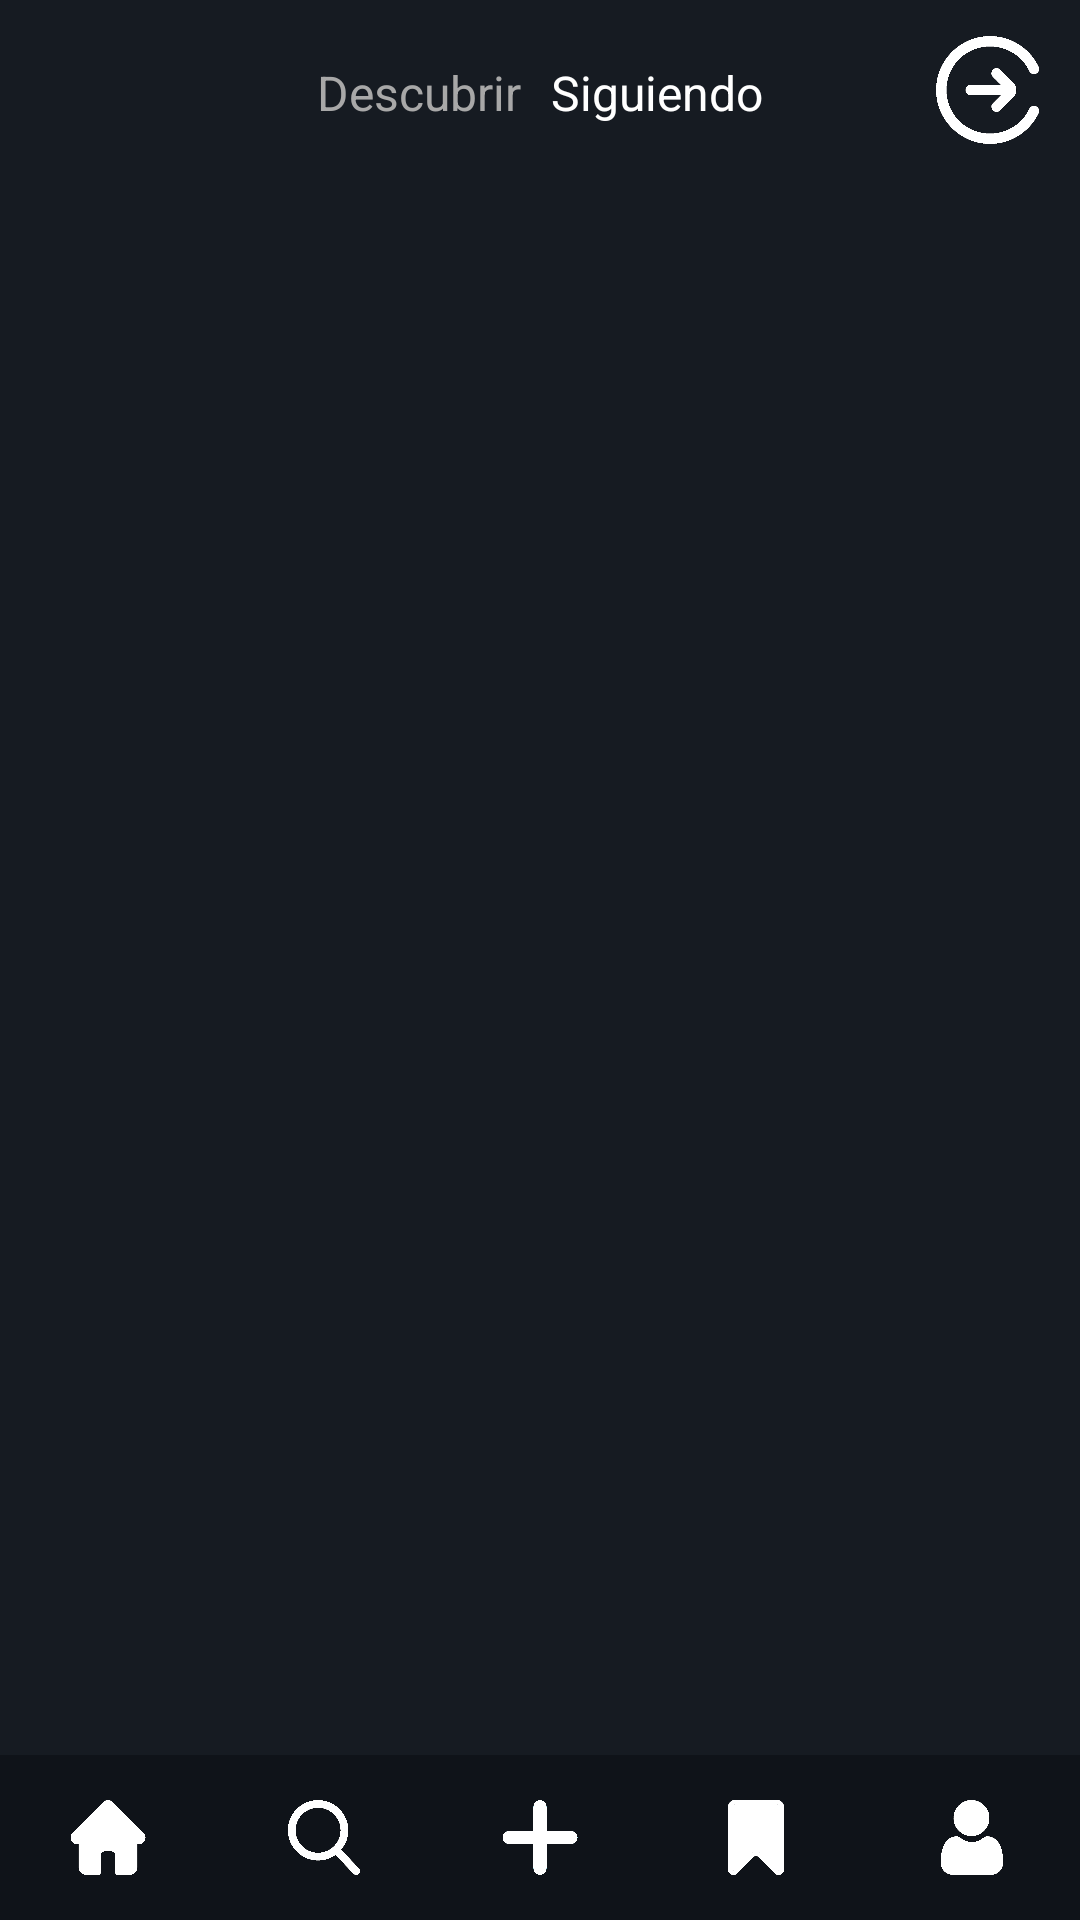

Named icons in this screenshot (1080 × 1920) and their centers, (x=x, y=y):
home: (x=108, y=1837)
log out: (x=987, y=90)
perfil: (x=972, y=1837)
plus: (x=540, y=1837)
saved: (x=756, y=1837)
search: (x=324, y=1837)
